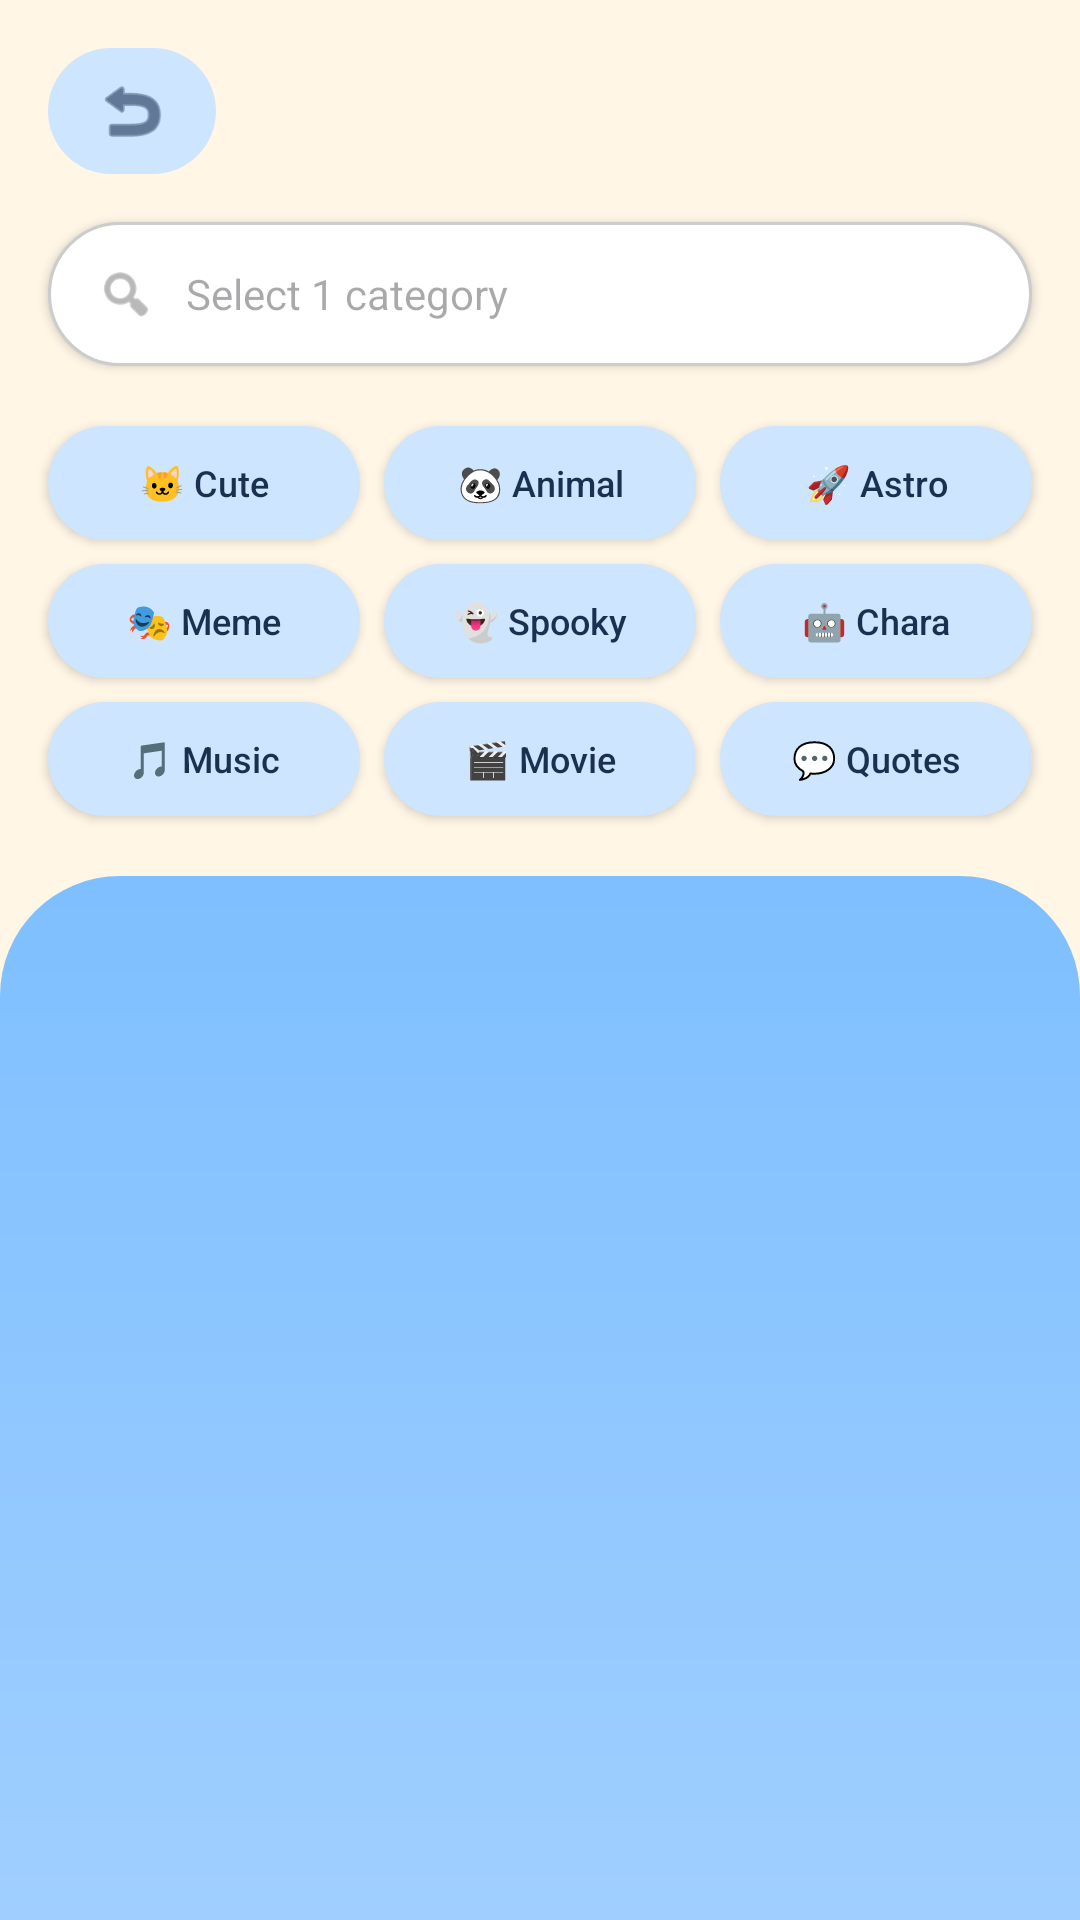

Where to tap for icons on this 1080 x 1920 app screen, as point (x, y):
Back Button: point (132, 111)
search: point (126, 294)
